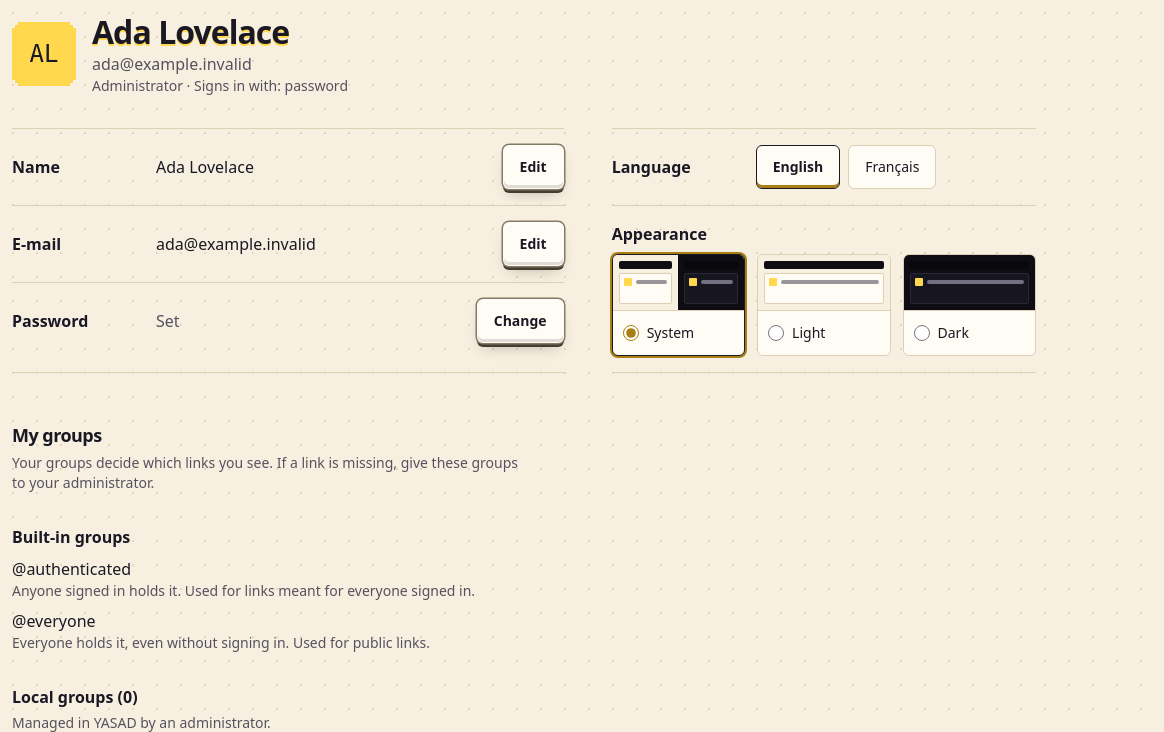
Test: Account › switches the language with two toggle buttons, each in its own language, applied at once
expect the button with aria-label "Change password" is shown: met, box left=477, top=299, right=564, bottom=343
Click the button "Français" at {"x": 892, "y": 167}, box left=848, top=145, right=936, bottom=189
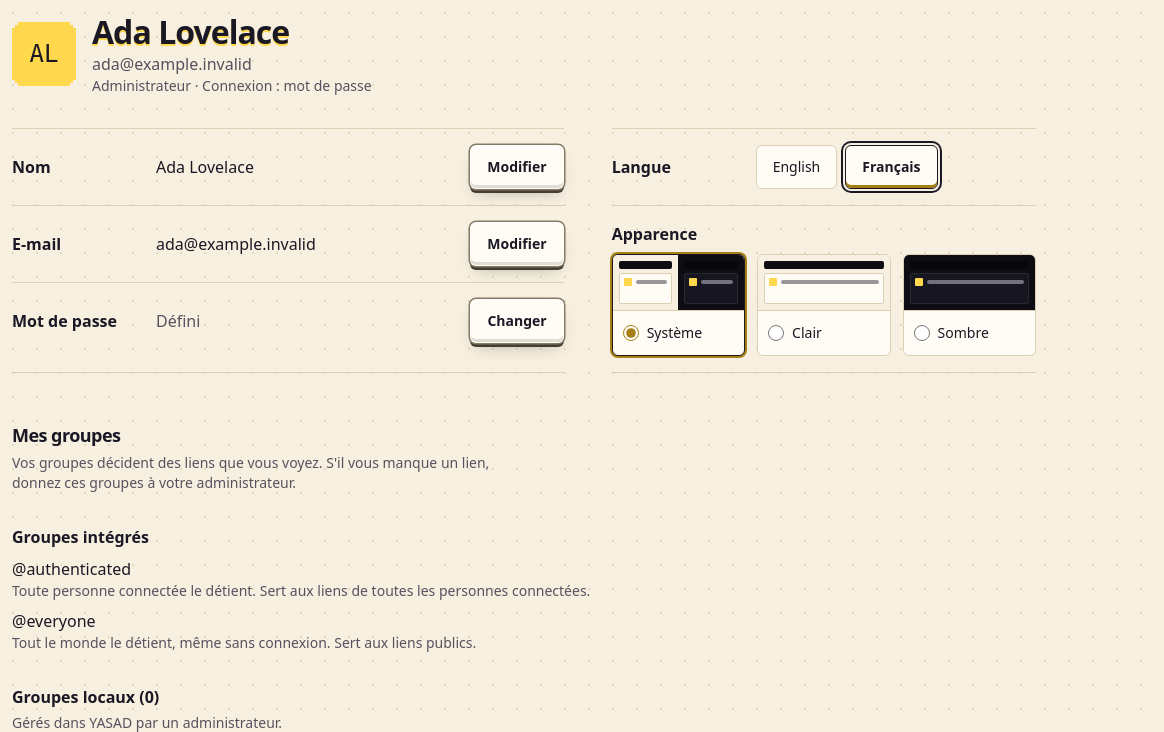
expect the button with aria-label "Changer le mot de passe" is shown: met, box left=470, top=299, right=564, bottom=343
